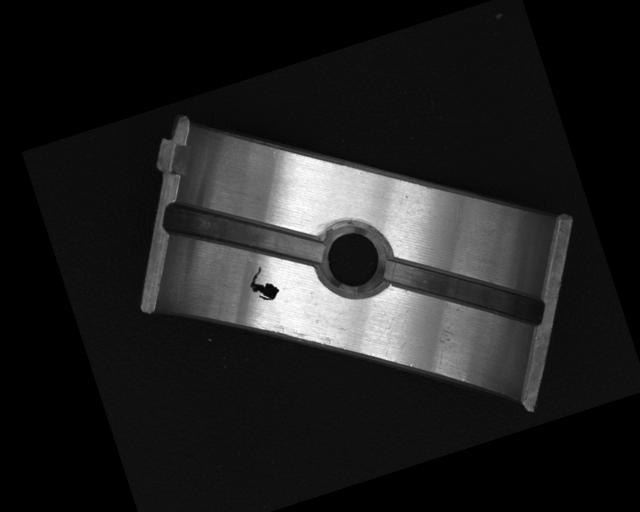blot: (244, 261, 282, 305)
gap: (379, 219, 548, 363), (160, 162, 326, 303)
hole: (311, 217, 390, 300)
